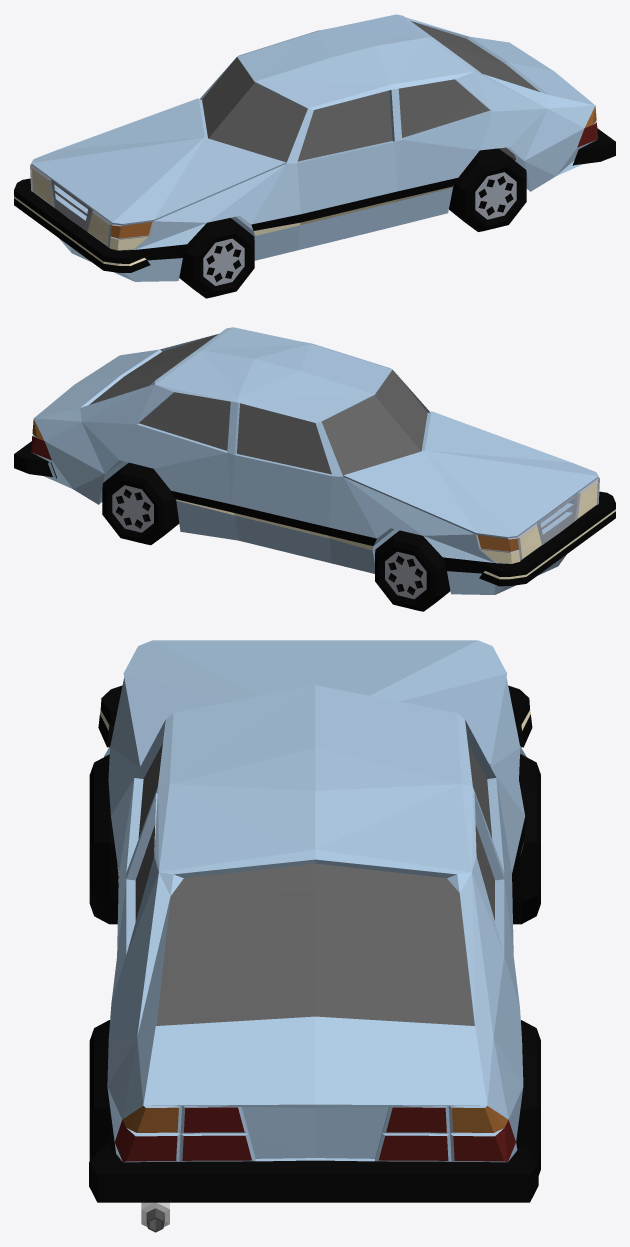
Rendered from Car_1.fbx.
3 renders of one model, top to bottom at view 1: azimuth 30°, elevation 25°; view 2: azimuth 150°, elevation 25°; view 3: azimuth 270°, elevation 25°, orthographic. The views are drawn at different scales.
Parts seen in each view (by area): view 1: car body, front wheels.001, front wheels; view 2: car body, front wheels.001, front wheels; view 3: car body, front wheels, front wheels.001.
Boxes of the visible parts, bbox=[...] form: car body: bbox=[14, 14, 615, 281]; front wheels.001: bbox=[449, 148, 526, 231]; front wheels: bbox=[179, 218, 254, 298]; car body: bbox=[14, 327, 615, 594]; front wheels.001: bbox=[102, 462, 179, 545]; front wheels: bbox=[375, 530, 450, 611]; car body: bbox=[89, 640, 538, 1202]; front wheels: bbox=[89, 754, 540, 924]; front wheels.001: bbox=[89, 1020, 540, 1175].
Bounding box in the file's own units: 11289 × 3419 × 4353.
